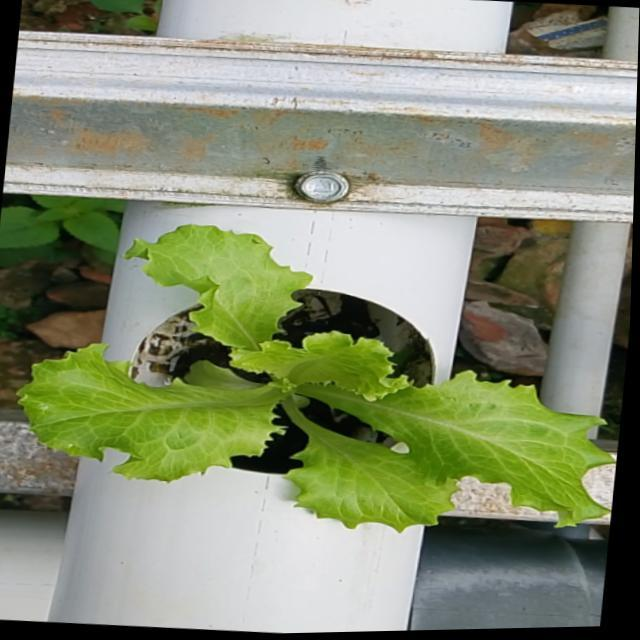Baby: (19, 225, 616, 532)
